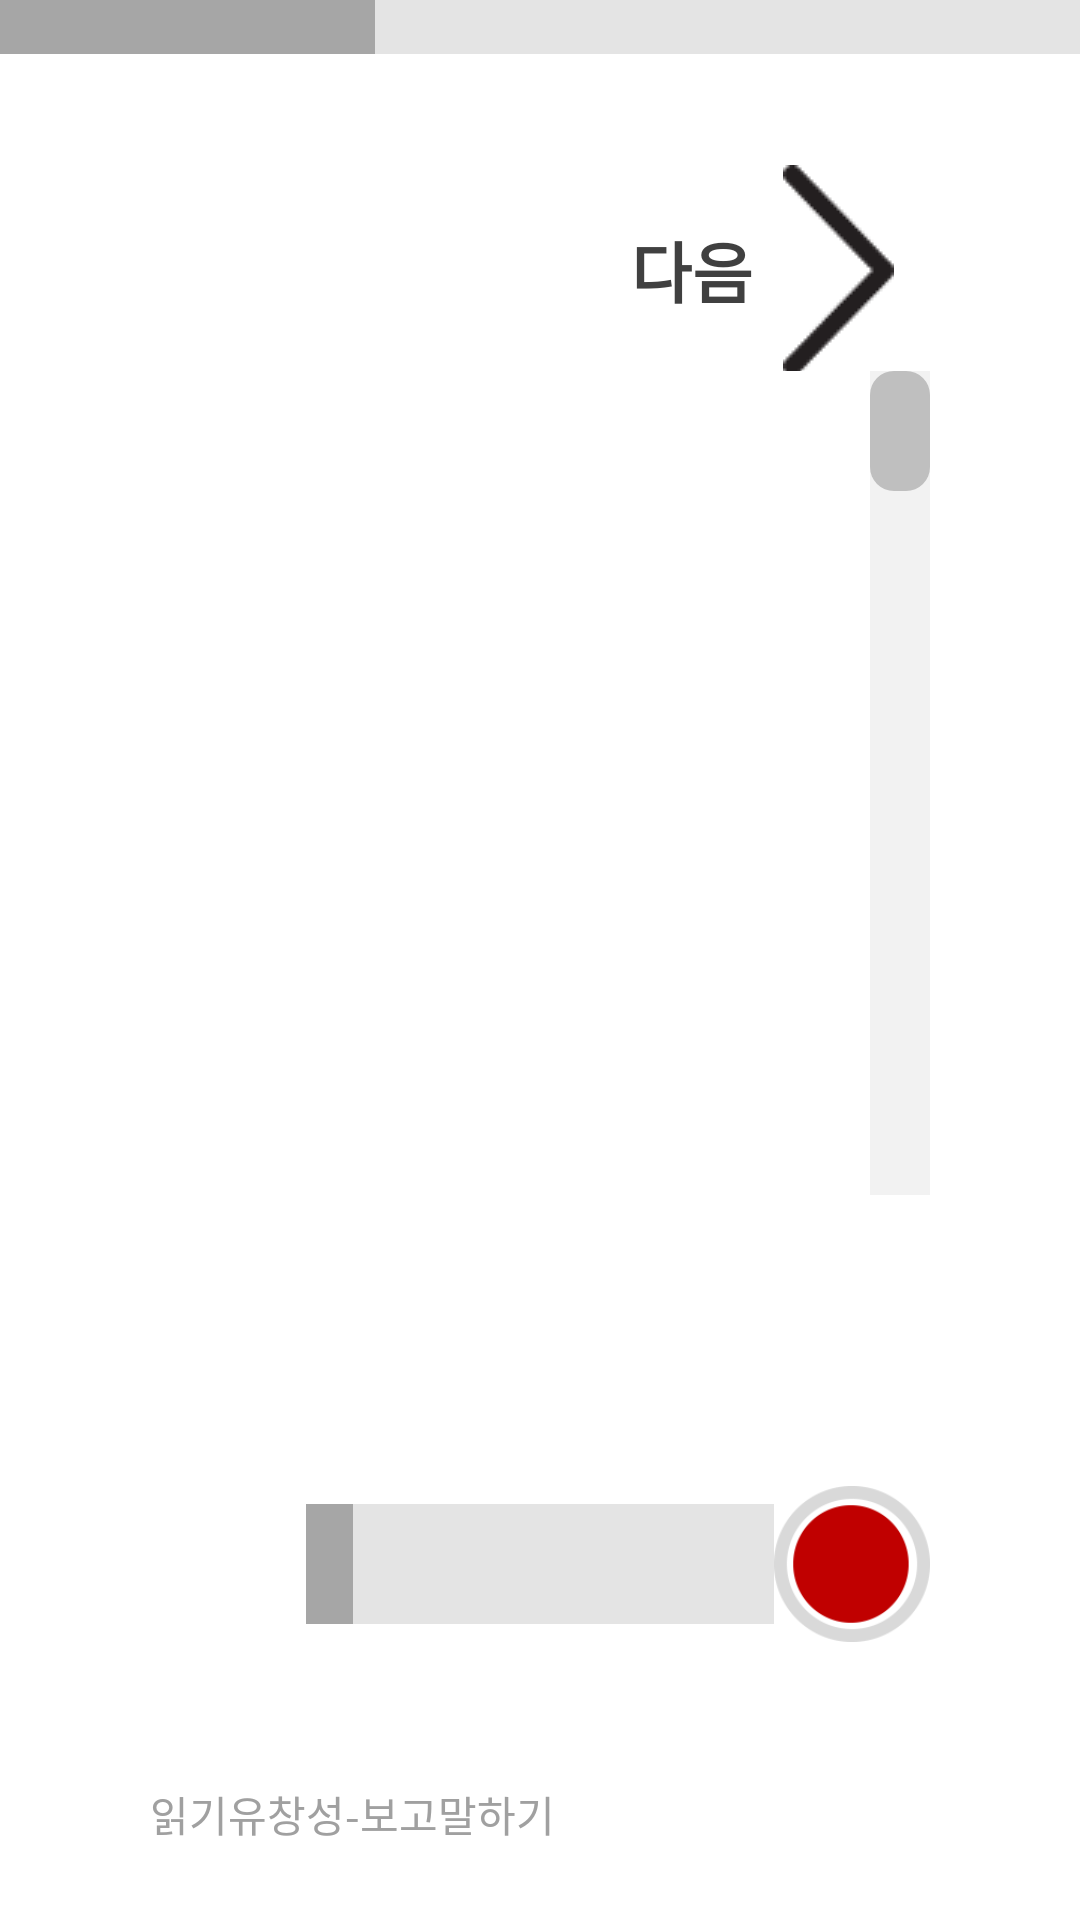

Icons on this 1080×1920 Android screen, each with its box as (x1, y1, x2, y2):
record: (793, 1505, 909, 1623)
